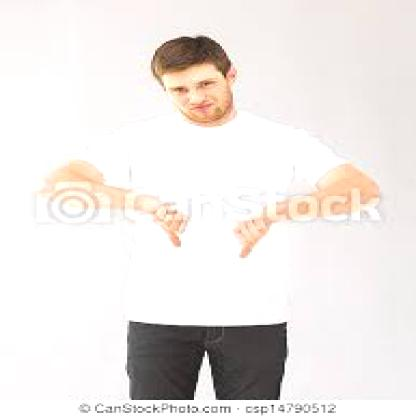Thumbs Down: (231, 214, 278, 264), (152, 202, 192, 259)
